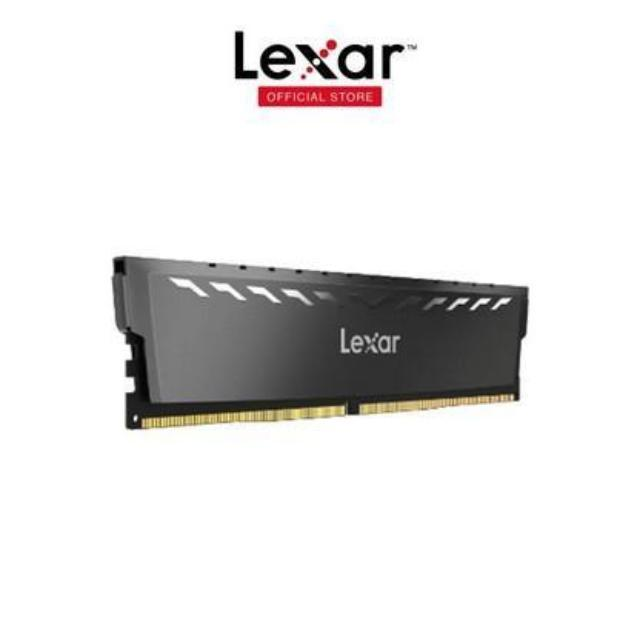RAM: (96, 245, 536, 443)
